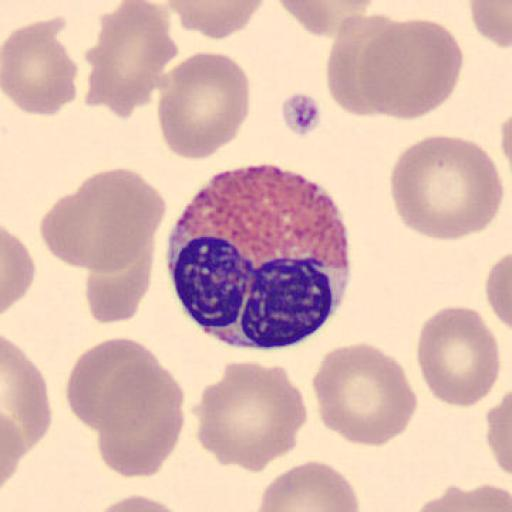RBC: (38, 167, 168, 273), (194, 358, 309, 474), (389, 134, 506, 244), (311, 340, 419, 448), (84, 0, 179, 120), (360, 16, 464, 121), (156, 52, 252, 162), (96, 363, 186, 479), (65, 336, 164, 433), (415, 304, 501, 408), (325, 12, 405, 118), (2, 16, 80, 117), (84, 242, 156, 326), (2, 334, 53, 452), (255, 458, 361, 512), (165, 0, 266, 41), (274, 0, 377, 38), (1, 223, 37, 316), (423, 481, 511, 512), (277, 0, 380, 24), (485, 247, 512, 336), (486, 390, 512, 480), (82, 492, 192, 512), (469, 0, 511, 49), (1, 411, 25, 493), (409, 482, 474, 512), (463, 482, 512, 511)
WBC: (165, 161, 353, 352)
